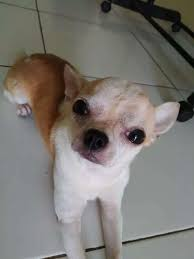Bulldog: (4, 26, 184, 259)
